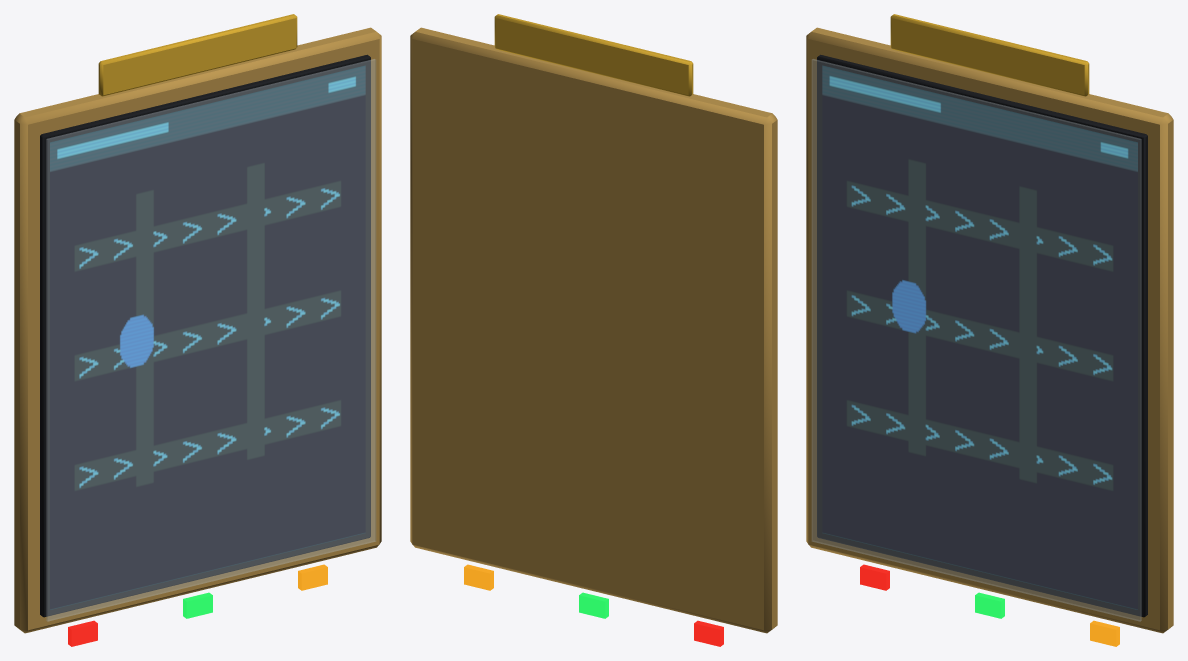
The model's file is display_deck_plan_board.glb.
The picture shows the model from 3 angles, left to right: view 1: azimuth 30°, elevation 25°; view 2: azimuth 150°, elevation 25°; view 3: azimuth 330°, elevation 25°; orthographic projection.
Parts seen in each view (by area): view 1: display_deck_plan_board; view 2: display_deck_plan_board; view 3: display_deck_plan_board.
Part boxes in pixels (<box>): display_deck_plan_board: <box>14,14,381,646</box>; display_deck_plan_board: <box>410,14,777,646</box>; display_deck_plan_board: <box>806,14,1173,646</box>.
Bounding box in the file's own units: 1.1 × 1.68 × 0.104.
Materials: 8 (1 with a texture image).
